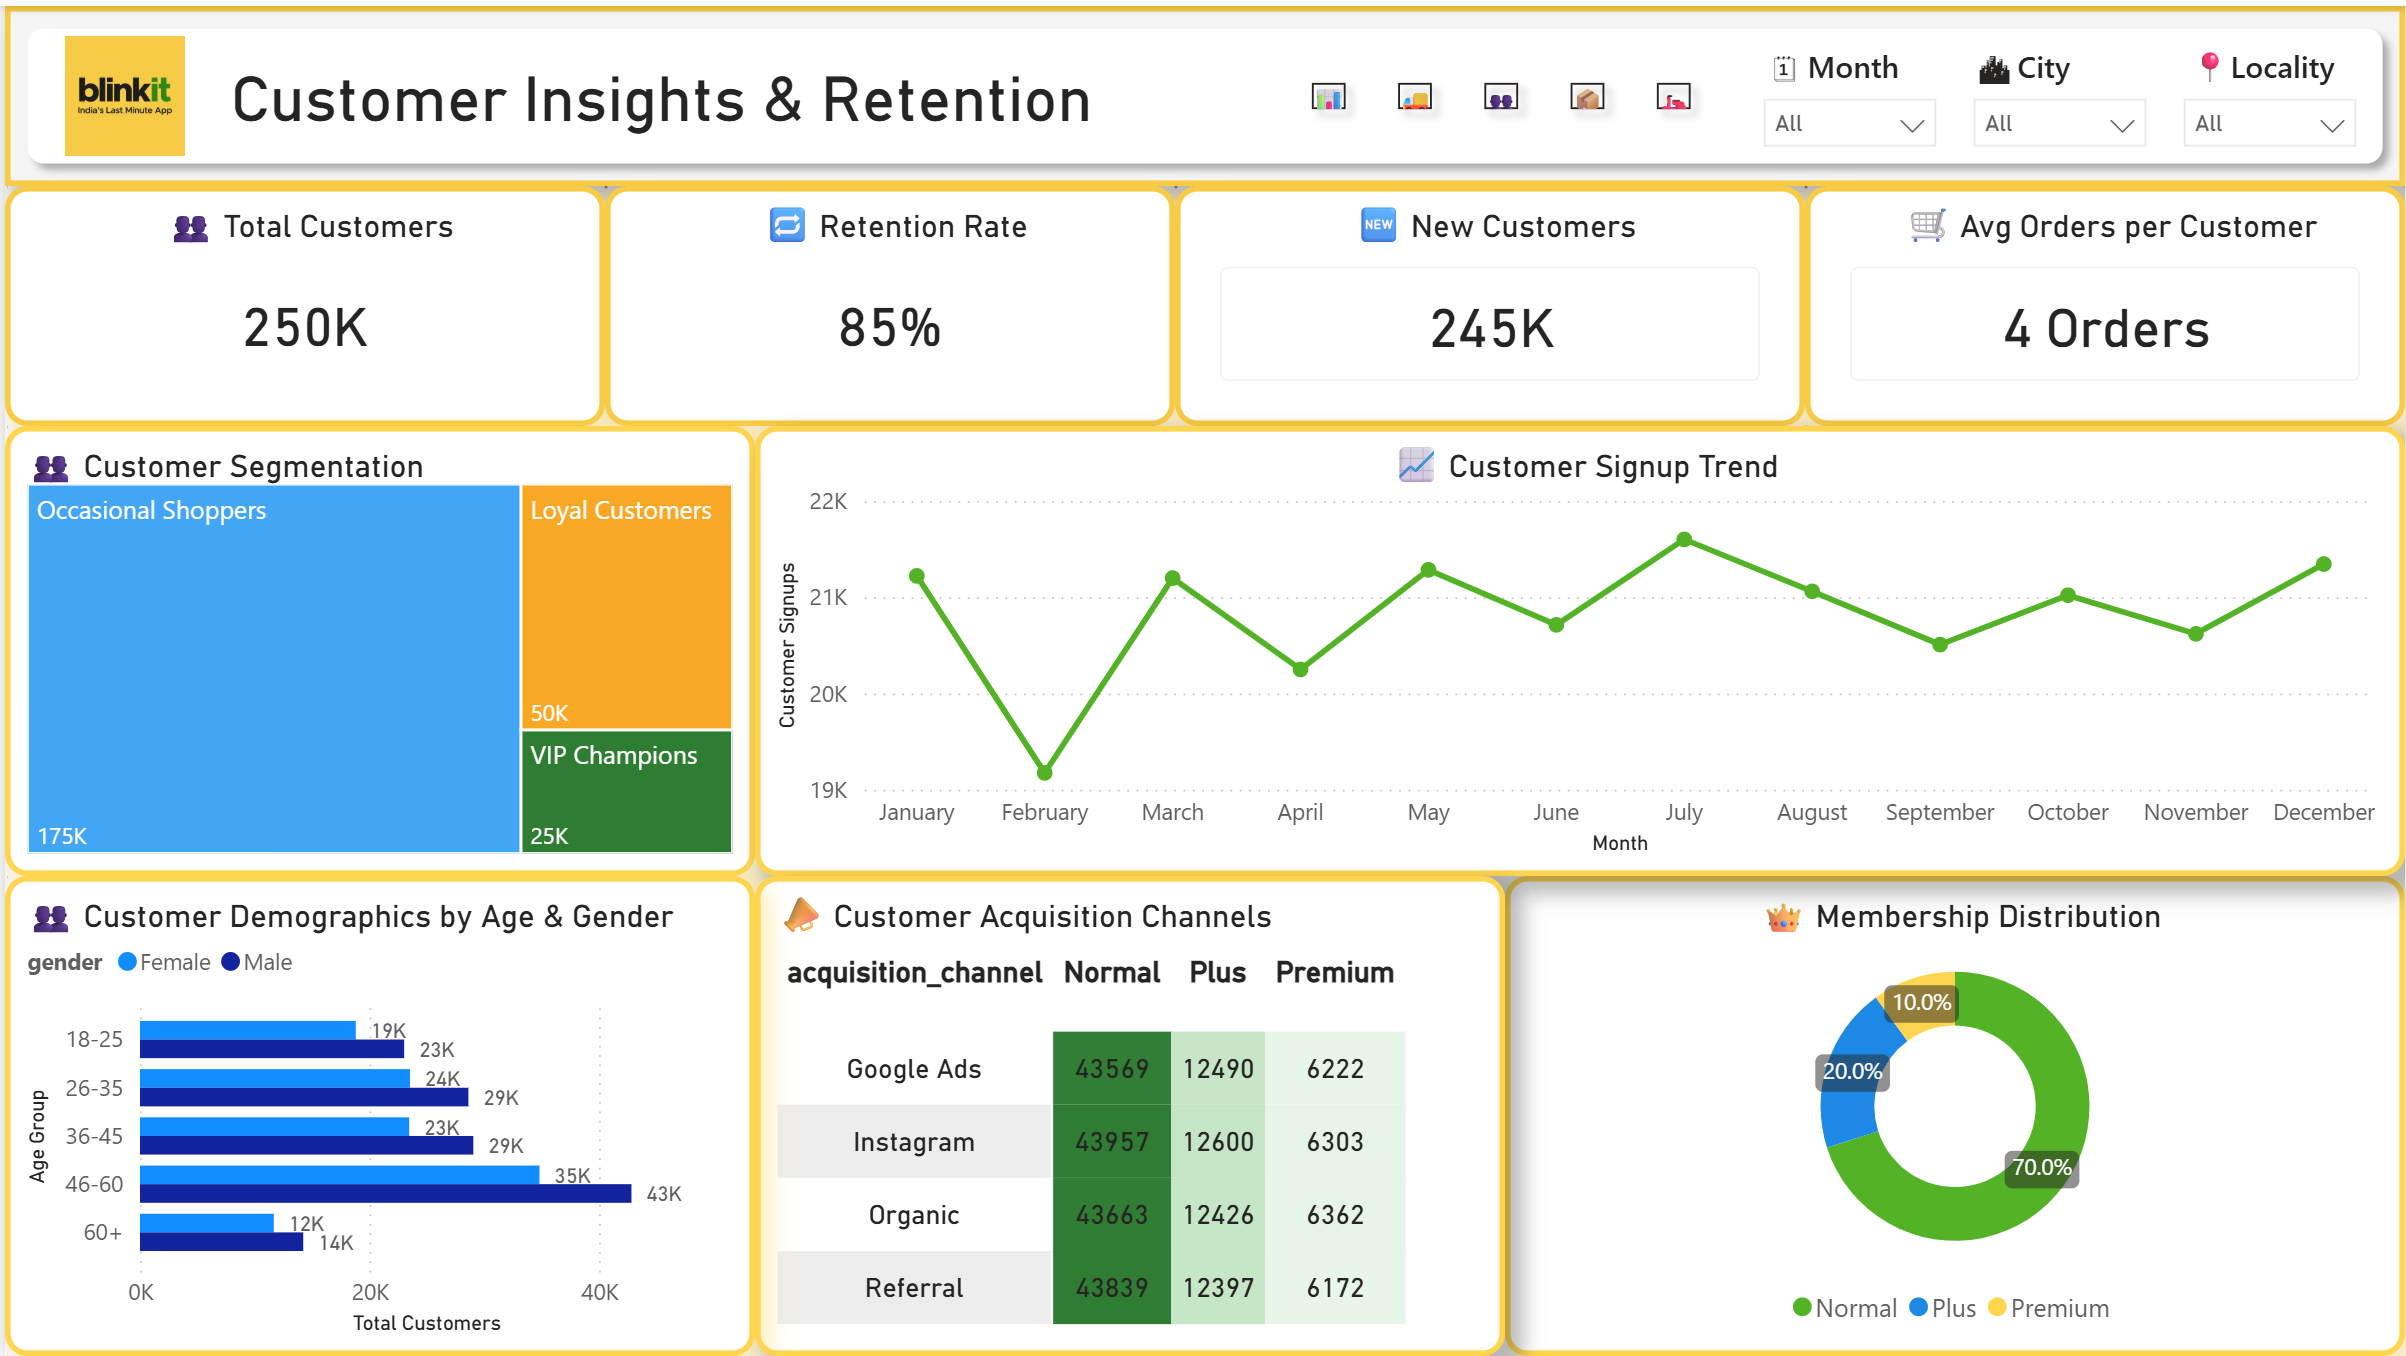

What the dashboard file says about the page in this screenshot:
{"tool":"powerbi","page":{"name":"👥 Customers","canvas":[1280,720],"ordinal":2},"visuals":[{"type":"shape","box":[0,0,1280,96],"z":0},{"type":"textbox","box":[16,16,640,64],"z":1000},{"type":"slicer","fields":{"Values":["Customers.city"]},"box":[1040,16,112,64],"z":2000},{"type":"slicer","fields":{"Values":["Store.locality"]},"box":[1152,16,112,64],"z":3000},{"type":"slicer","fields":{"Values":["Calender.date.Variation.Date Hierarchy.Month"]},"box":[928,16,112,64],"z":4000},{"type":"image","box":[0,16,128,64],"z":5000},{"type":"card","title":"👥 Total Customers","fields":{"Values":["Key_Metrices.Total Customers"]},"box":[0,96,320,128],"z":6000},{"type":"card","title":"🔁 Retention Rate","fields":{"Values":["Key_Metrices.Retention Rate"]},"box":[320,96,304,128],"z":7000},{"type":"cardVisual","title":"🆕 New Customers","fields":{"Data":["Key_Metrices.New Customers Count"]},"box":[624,96,336,128],"z":8000},{"type":"cardVisual","title":"🛒 Avg Orders per Customer","fields":{"Data":["Key_Metrices.Average Orders per Customer"]},"box":[960,96,320,128],"z":9000},{"type":"treemap","title":"👥 Customer Segmentation","fields":{"Group":["Customers.Customer Segment"],"Values":["Key_Metrices.Total Customers"]},"box":[0,224,400,240],"z":10000},{"type":"donutChart","title":"👑 Membership Distribution","fields":{"Category":["Customers.membership_type"],"Y":["CountNonNull(Customers.customer_id)"]},"box":[800,464,480,256],"z":11000},{"type":"lineChart","title":"📈 Customer Signup Trend","fields":{"Category":["Customers.signup_date.Variation.Date Hierarchy.Month"],"Y":["CountNonNull(Customers.customer_id)"]},"box":[400,224,880,240],"z":12000},{"type":"pivotTable","title":"📣 Customer Acquisition Channels","fields":{"Rows":["Customers.acquisition_channel"],"Columns":["Customers.membership_type"],"Values":["CountNonNull(Customers.customer_id)"]},"box":[400,464,400,256],"z":13000},{"type":"clusteredBarChart","title":"👥 Customer Demographics by Age & Gender","fields":{"Category":["Customers.Age Group"],"Y":["Key_Metrices.Total Customers"],"Series":["Customers.gender"]},"box":[0,464,400,256],"z":14000},{"type":"pageNavigator","box":[688,32,224,32],"z":15000}]}

Visuals, with their boxes in screenshot pixels (x1, y1, x2, y2), scaled from the page's 1280x720 canvas onto the 2406x1356 screenshot:
shape: [0,0,2405,181]
textbox: [30,30,1233,151]
slicer - Customers.city: [1955,30,2165,151]
slicer - Store.locality: [2165,30,2376,151]
slicer - Calender.date.Variation.Date Hierarchy.Month: [1744,30,1955,151]
image: [0,30,241,151]
"👥 Total Customers" card: [0,181,602,422]
"🔁 Retention Rate" card: [602,181,1173,422]
"🆕 New Customers" cardVisual: [1173,181,1804,422]
"🛒 Avg Orders per Customer" cardVisual: [1804,181,2405,422]
"👥 Customer Segmentation" treemap: [0,422,752,874]
"👑 Membership Distribution" donutChart: [1504,874,2405,1355]
"📈 Customer Signup Trend" lineChart: [752,422,2405,874]
"📣 Customer Acquisition Channels" pivotTable: [752,874,1504,1355]
"👥 Customer Demographics by Age & Gender" clusteredBarChart: [0,874,752,1355]
pageNavigator: [1293,60,1714,121]
